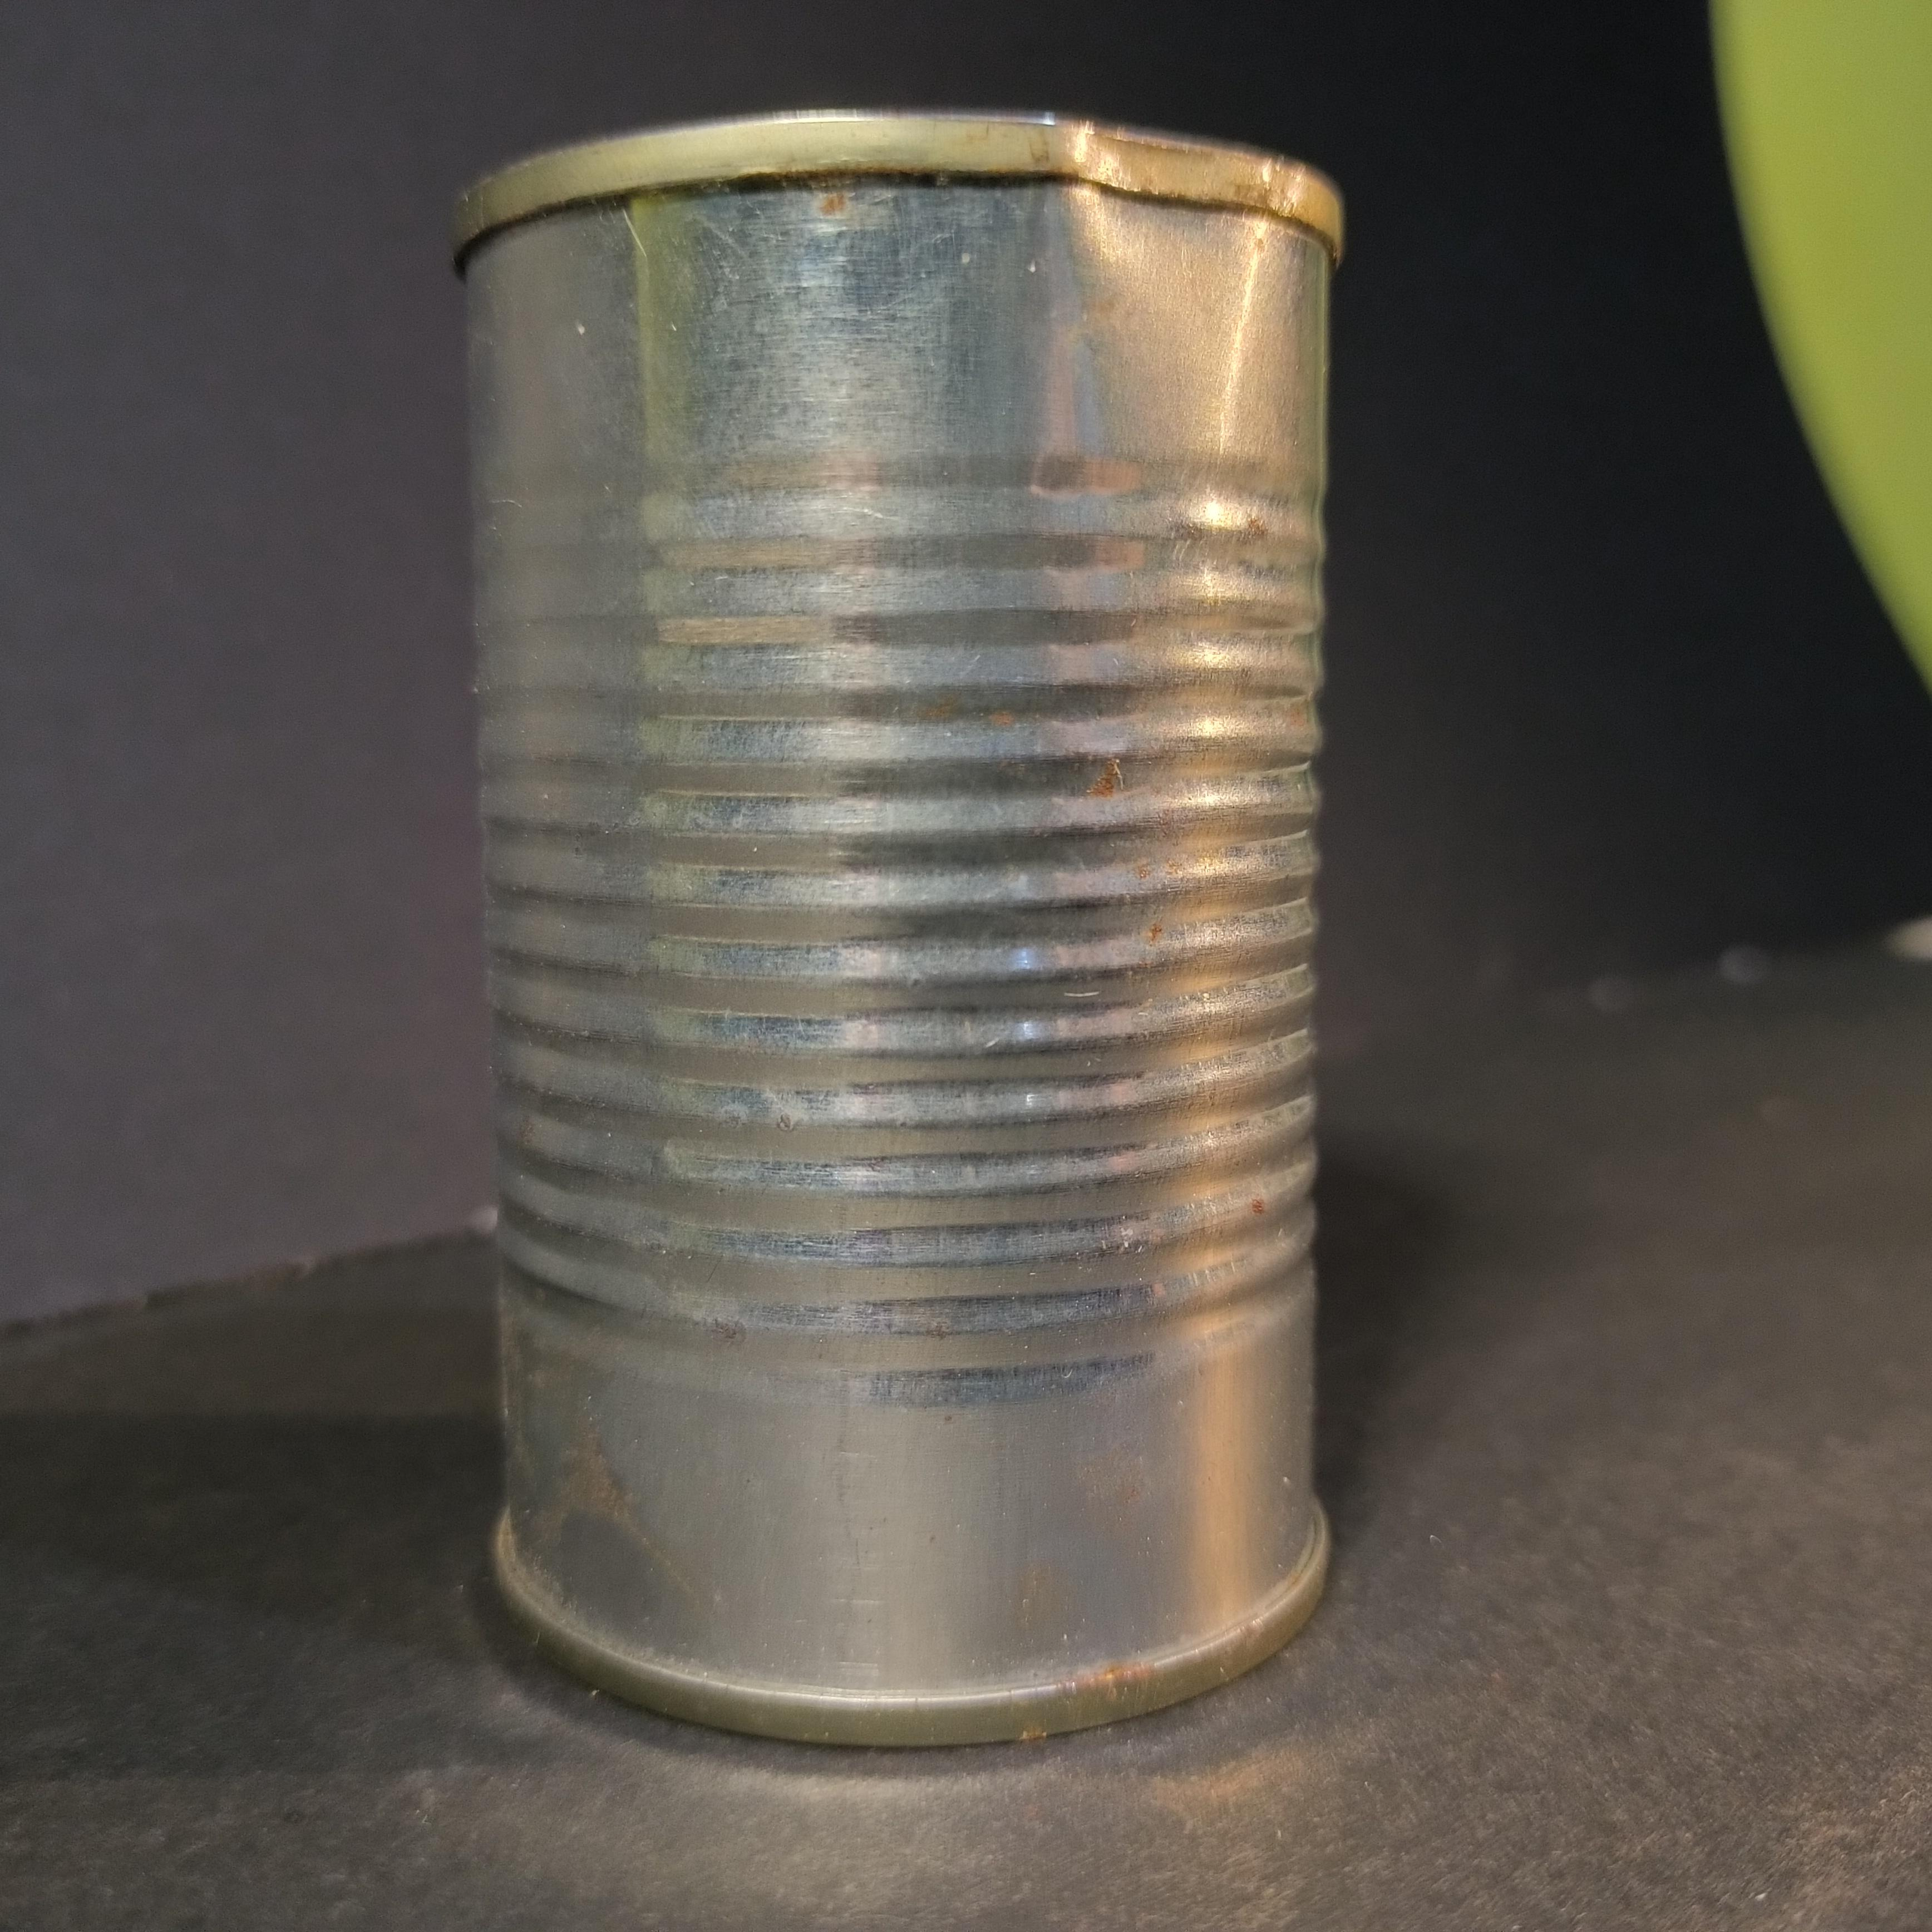Minor Defect: (438, 83, 1353, 1778)
